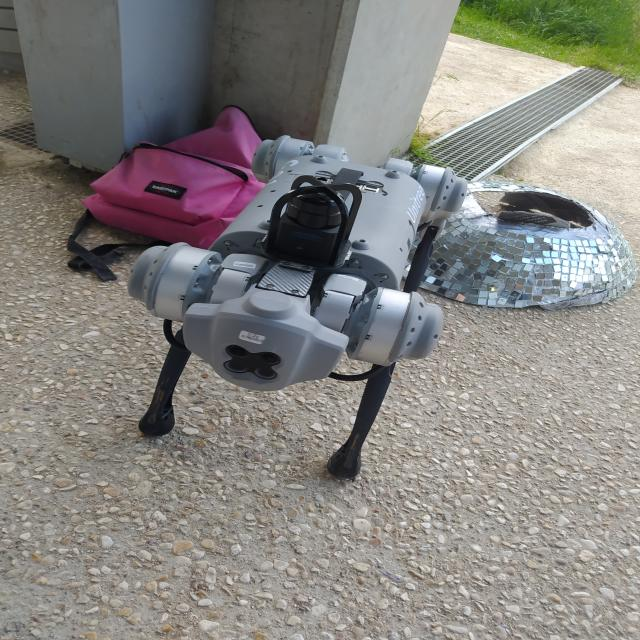unitree-go1-robot: (116, 129, 463, 487)
